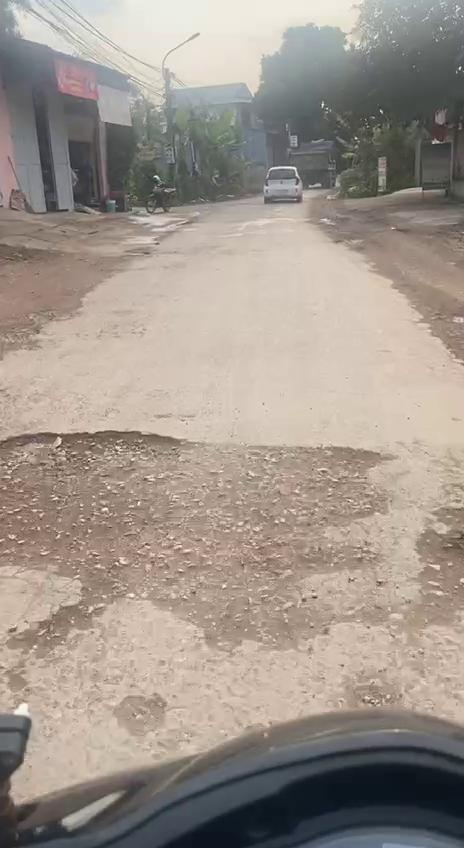pothole: (0, 425, 196, 619), (209, 443, 384, 644), (408, 503, 464, 636)
